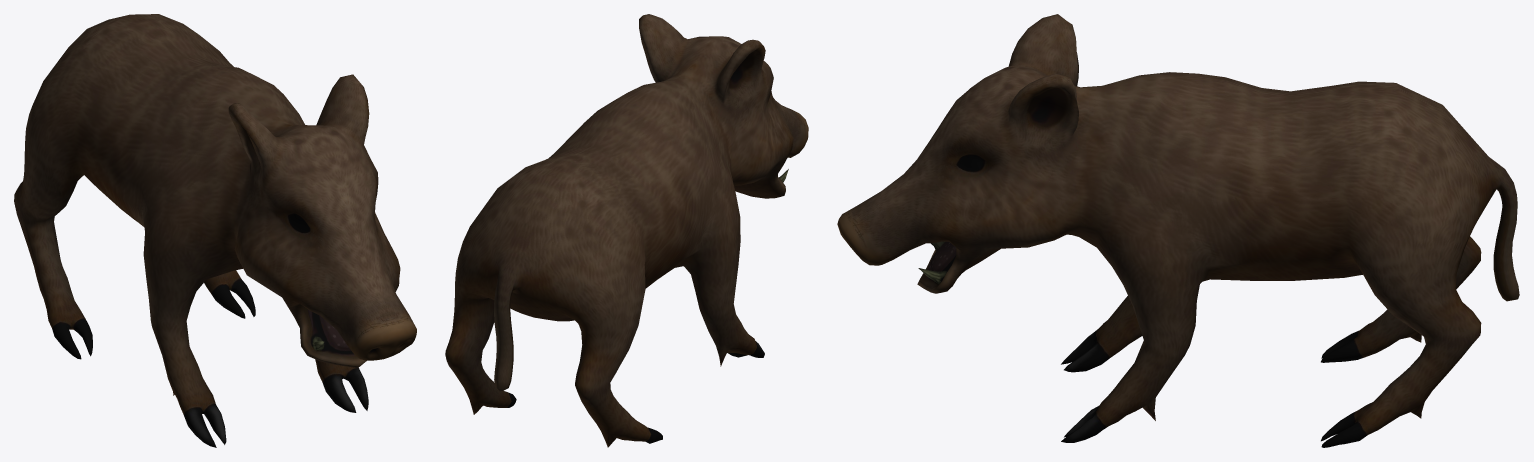
File: forest-boar.glb
3 renders of one model, left to right at view 1: azimuth 30°, elevation 25°; view 2: azimuth 150°, elevation 25°; view 3: azimuth 270°, elevation 25°, orthographic. The views are drawn at different scales.
Parts seen in each view (by area): view 1: Object_2; view 2: Object_2; view 3: Object_2.
Part boxes in pixels (bbox=[...]): Object_2: bbox=[14, 14, 416, 447]; Object_2: bbox=[445, 14, 808, 447]; Object_2: bbox=[837, 14, 1519, 447].
Bounding box in the file's own units: 1.59 × 2.71 × 4.66.
Materials: 1 (1 with a texture image).
